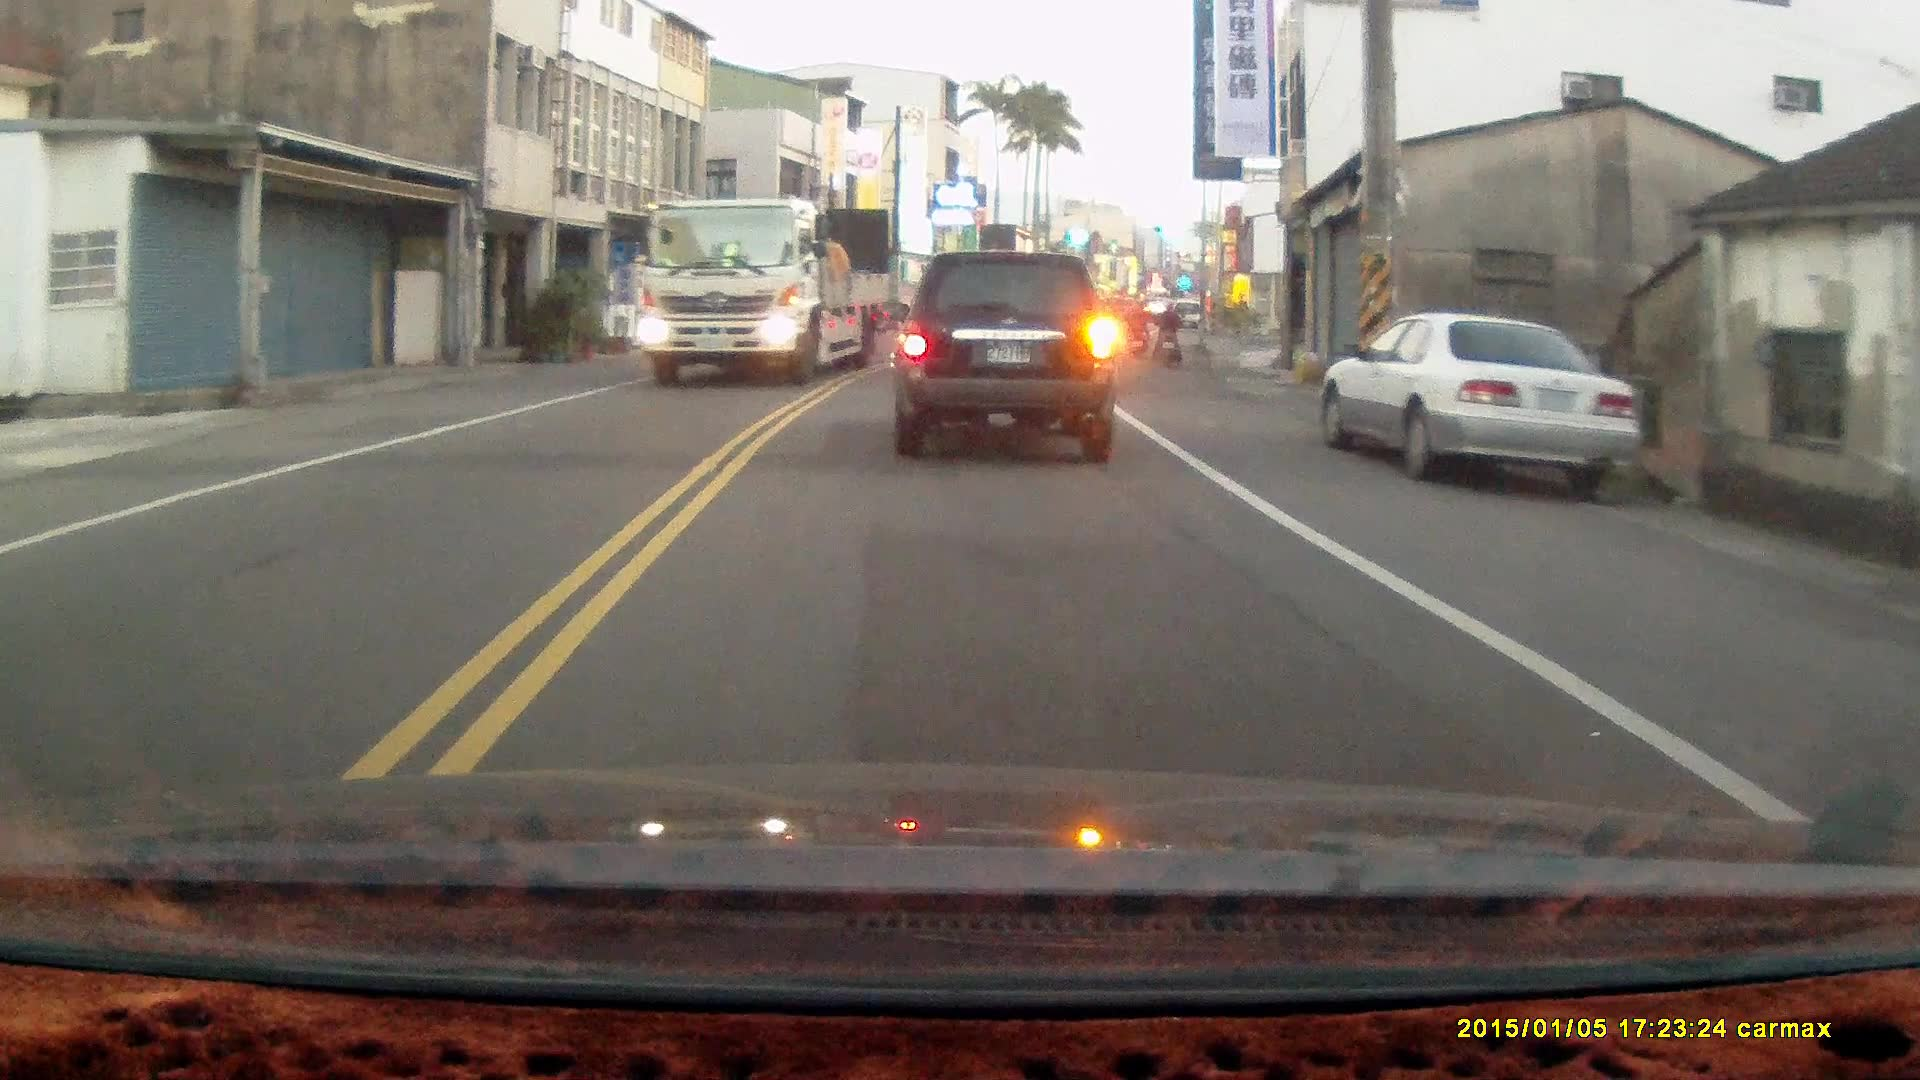rider: (1152, 295, 1183, 372), (1123, 296, 1149, 359)
vehicle: (1323, 313, 1640, 491), (637, 196, 899, 387), (892, 246, 1120, 458)
